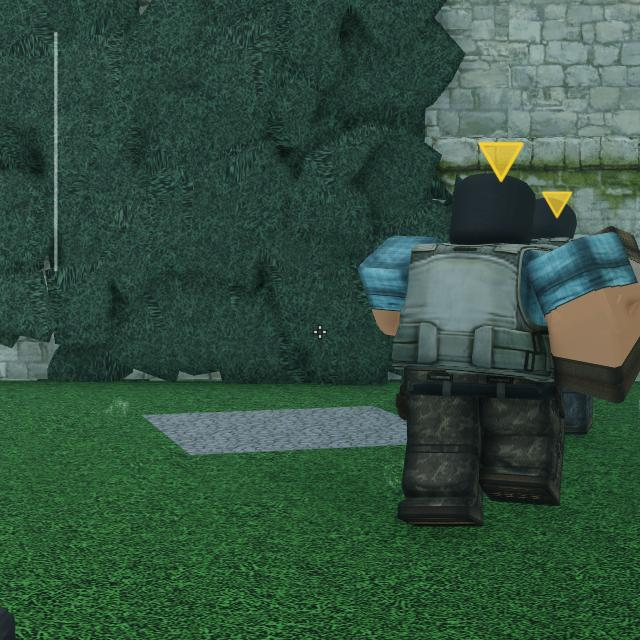Head: (451, 174, 534, 243), (534, 194, 576, 237)
Player: (358, 173, 640, 527)
